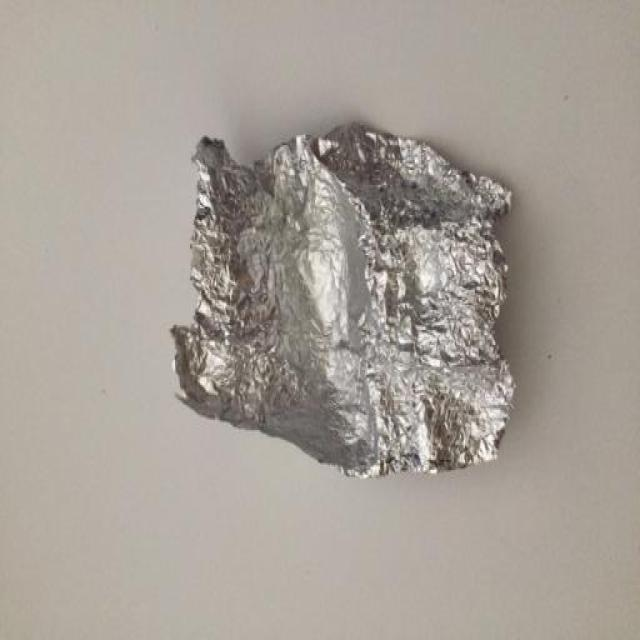metal: (168, 119, 516, 478)
